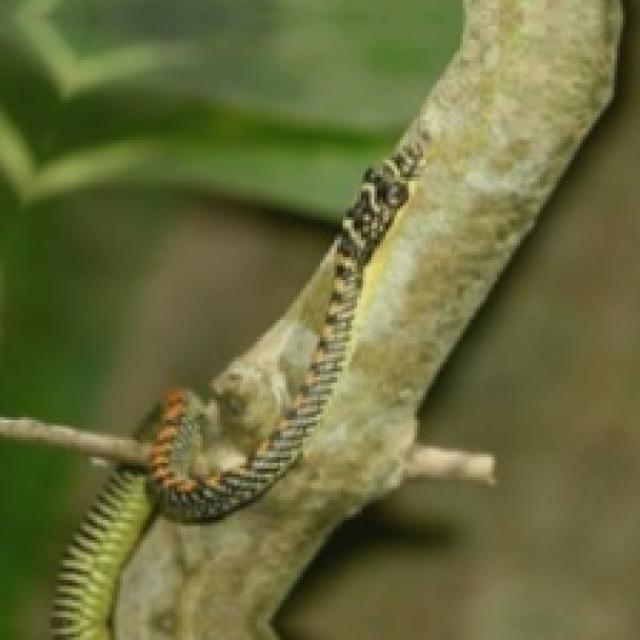paradise tree snake: (51, 129, 426, 637)
